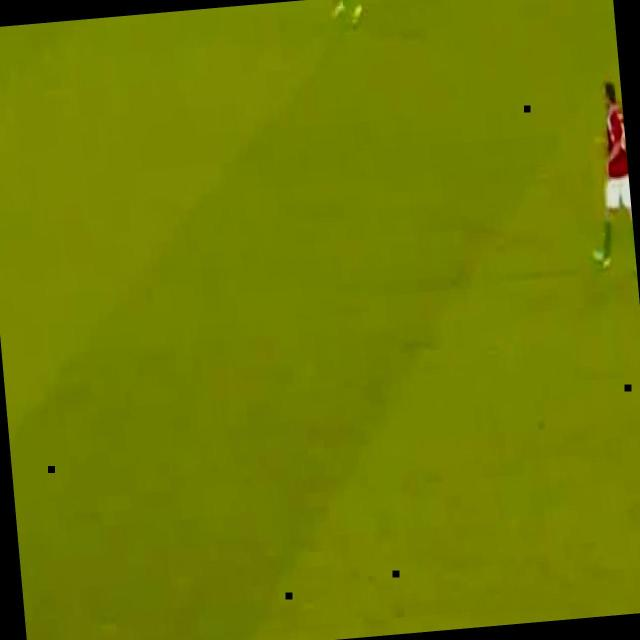player-white: (577, 75, 637, 274), (324, 0, 364, 28)
